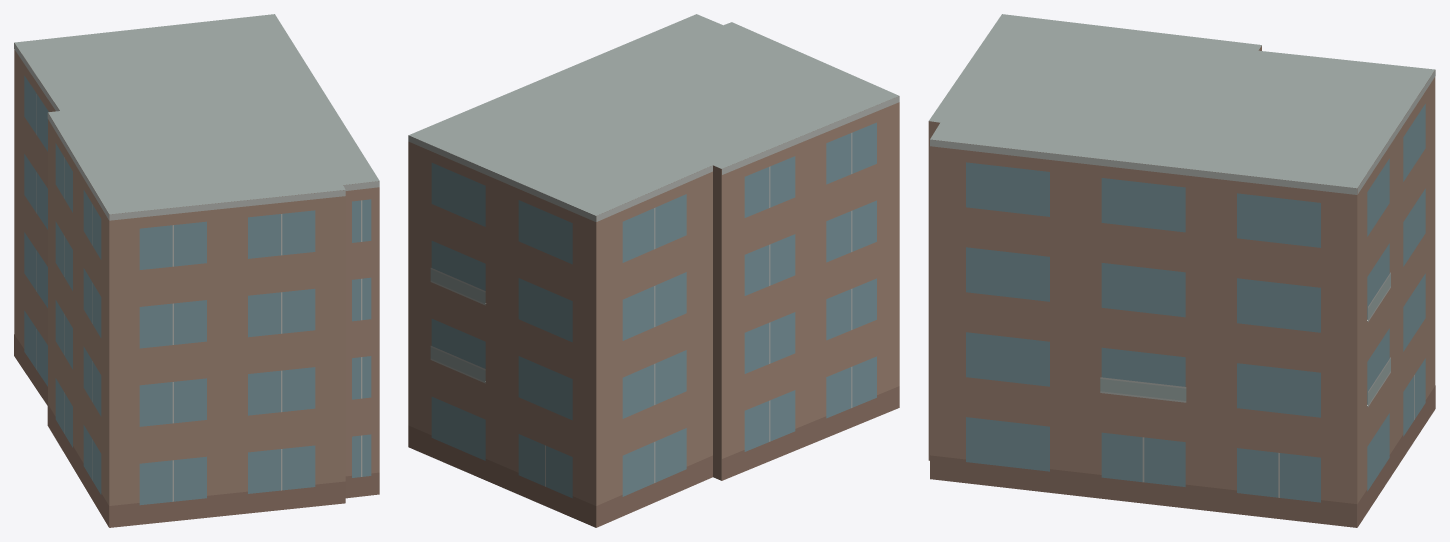
Rendered from survey-upis-32665260.glb.
3 renders of one model, left to right at view 1: azimuth 30°, elevation 25°; view 2: azimuth 150°, elevation 25°; view 3: azimuth 270°, elevation 25°, orthographic. The views are drawn at different scales.
Visible parts, largest first — view 1: survey-upis-32665260.tmp; view 2: survey-upis-32665260.tmp; view 3: survey-upis-32665260.tmp.
Boxes of the visible parts, x1=… form: survey-upis-32665260.tmp: x1=14, y1=14, x2=379, y2=527; survey-upis-32665260.tmp: x1=408, y1=14, x2=899, y2=527; survey-upis-32665260.tmp: x1=928, y1=14, x2=1435, y2=527.
Bounding box in the file's own units: 13.43 × 12.2 × 16.51.
